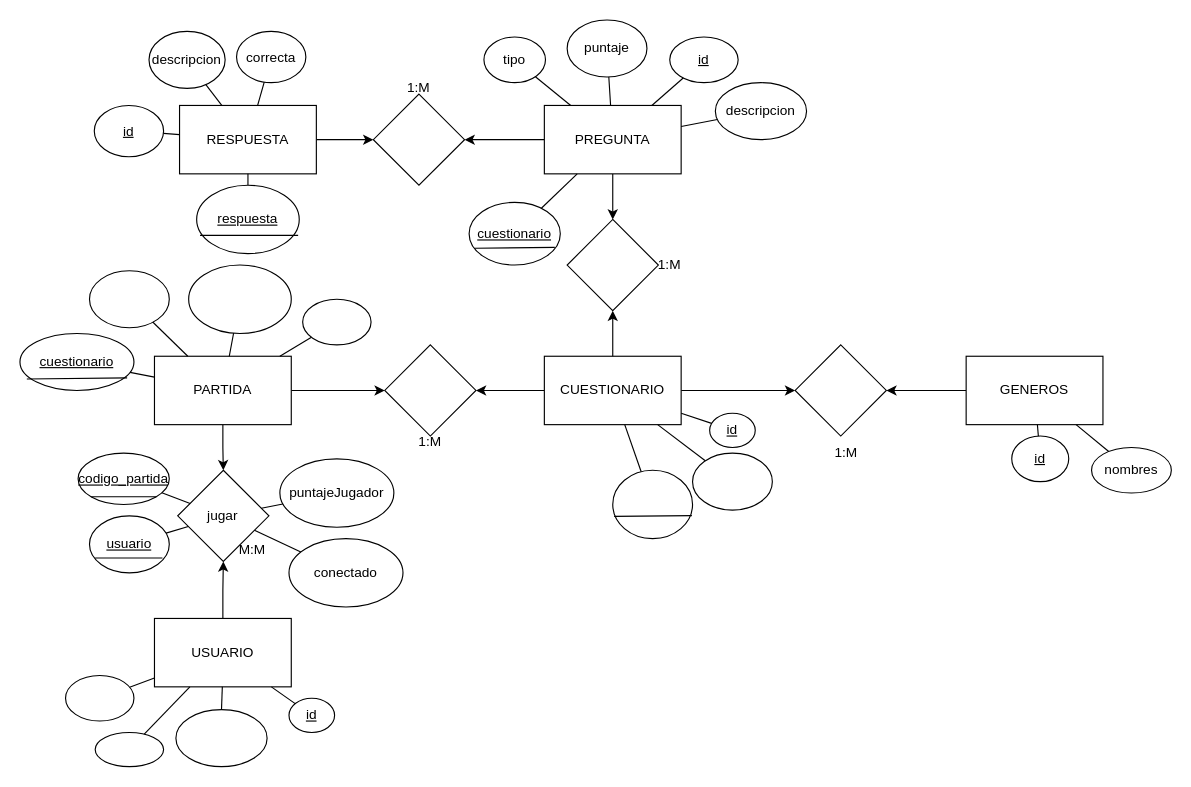
Some shapes in this 1191 by 787 pixel diagram are drawn without their labels. Here are the shapes that lost their labels. From the top down, the centre of each, then its label:
the point at 418,139: Responder
the point at 612,264: estar
the point at 128,299: publicaPriv
the point at 239,298: cantJugadores
the point at 336,321: codigo
the point at 430,390: incluir
the point at 840,390: pertenecer
the point at 731,481: tematica
the point at 652,504: id_genero
the point at 99,697: nombre
the point at 129,749: email
the point at 221,738: contraseña
